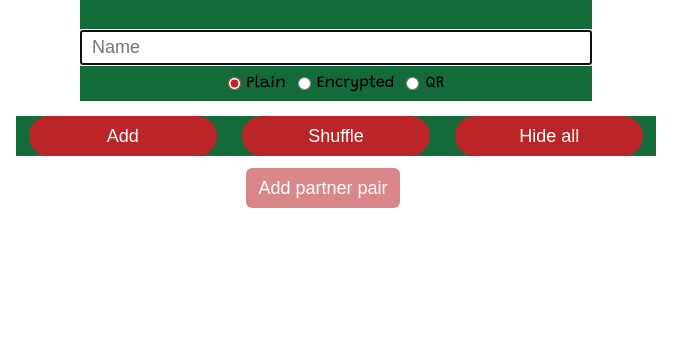
Test: Generator UI › shows encrypted links after shuffle when encrypted mode is selected
Type " Alex " into the field with placeholder "Name" at (336, 48), box [80, 30, 592, 65]
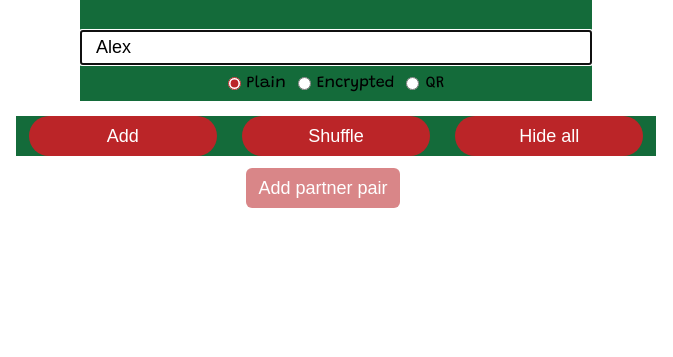
Click the button "Add" at (123, 136), box [29, 116, 216, 156]
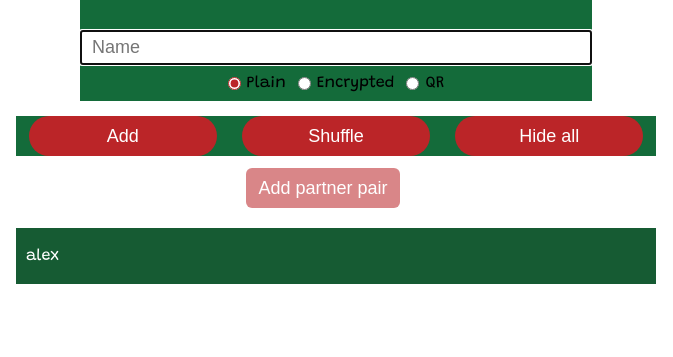
Type "charles" into the field with placeholder "Name" at (336, 48), box [80, 30, 592, 65]
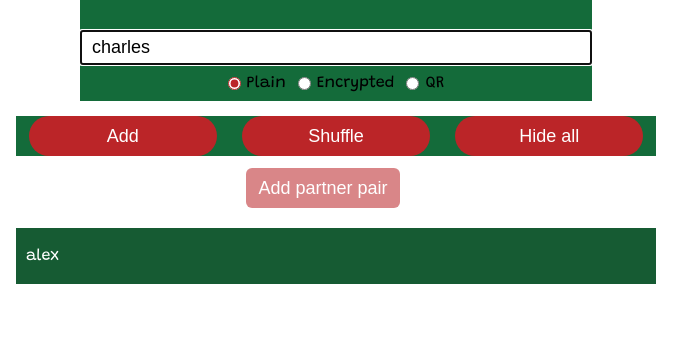
Click the button "Add" at (123, 136), box [29, 116, 216, 156]
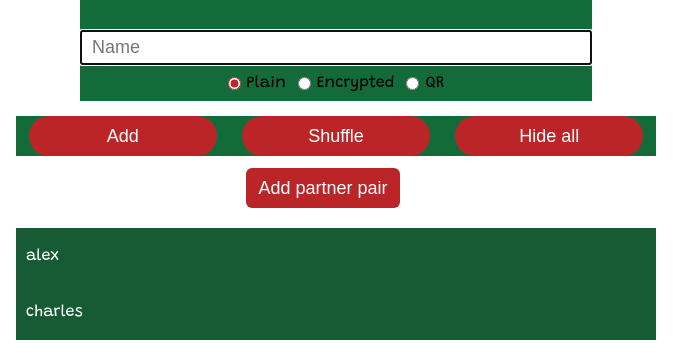
Click the radio button labelled "Encrypted" at (304, 83), box [298, 76, 311, 90]
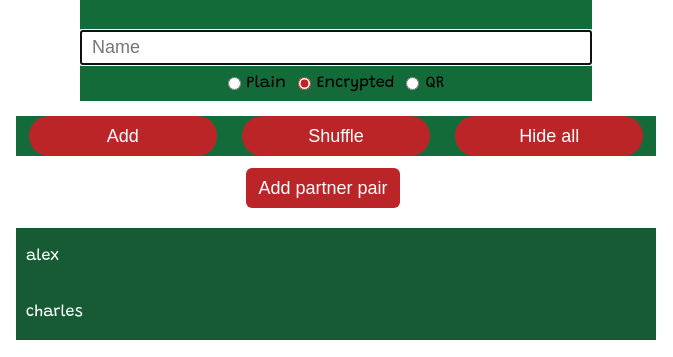
Click the button "Shuffle" at (336, 136), box [242, 116, 430, 156]
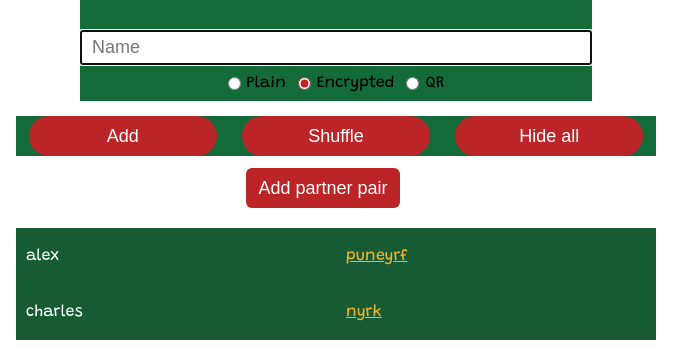
Check: the 1st link is shown, box [346, 248, 407, 264]
